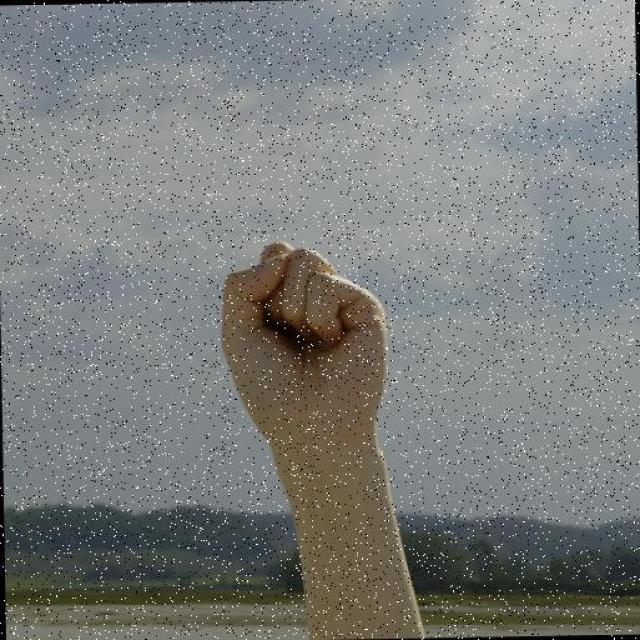S: (212, 239, 397, 452)
